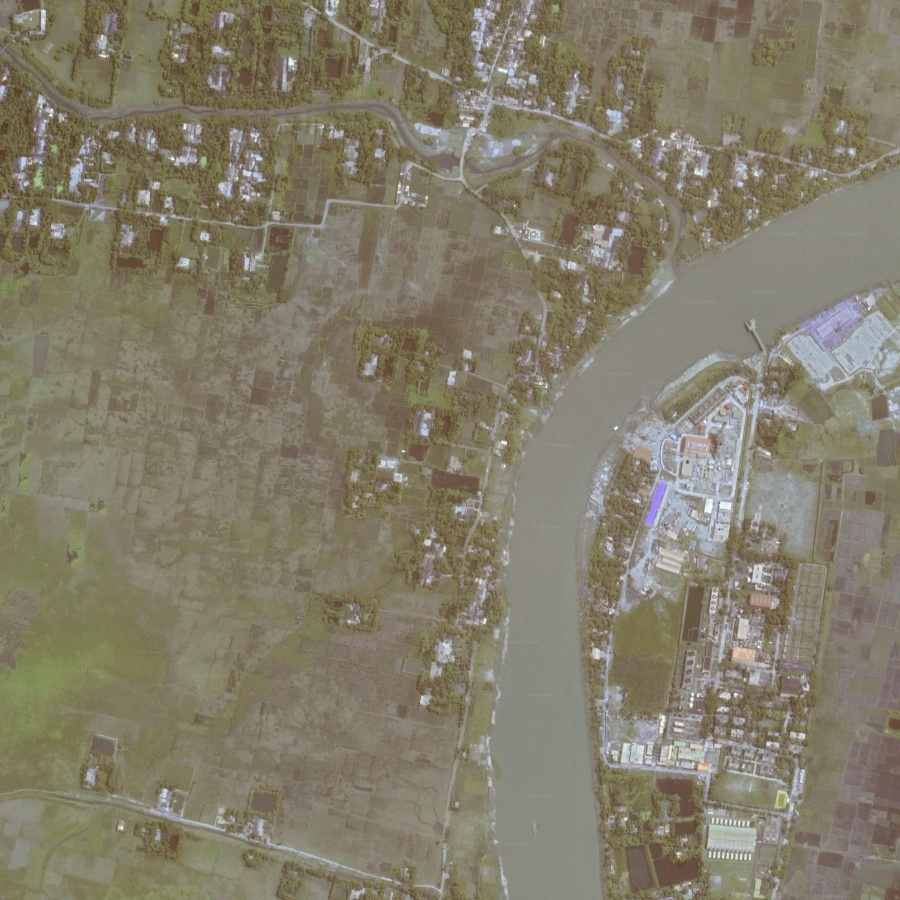PowerPlant: (672, 387, 743, 542)
